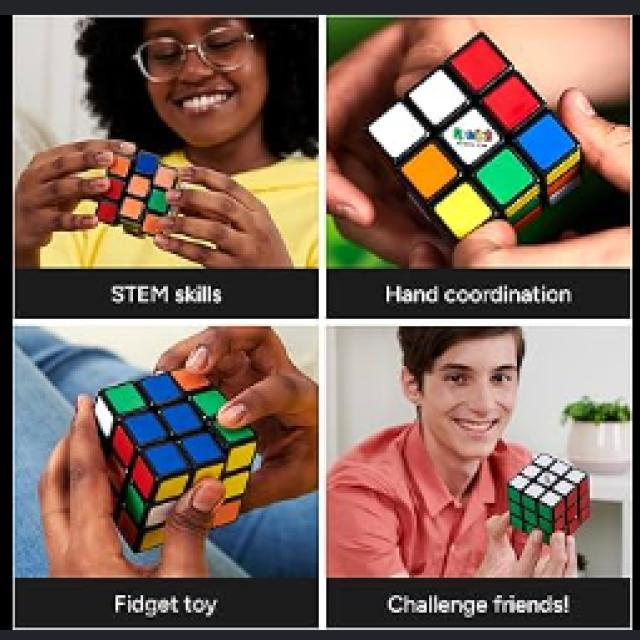Cubo-No-resuelto: (369, 32, 580, 244), (98, 369, 253, 550), (95, 149, 176, 234)
Cubo-Resuelto: (509, 453, 587, 540)
